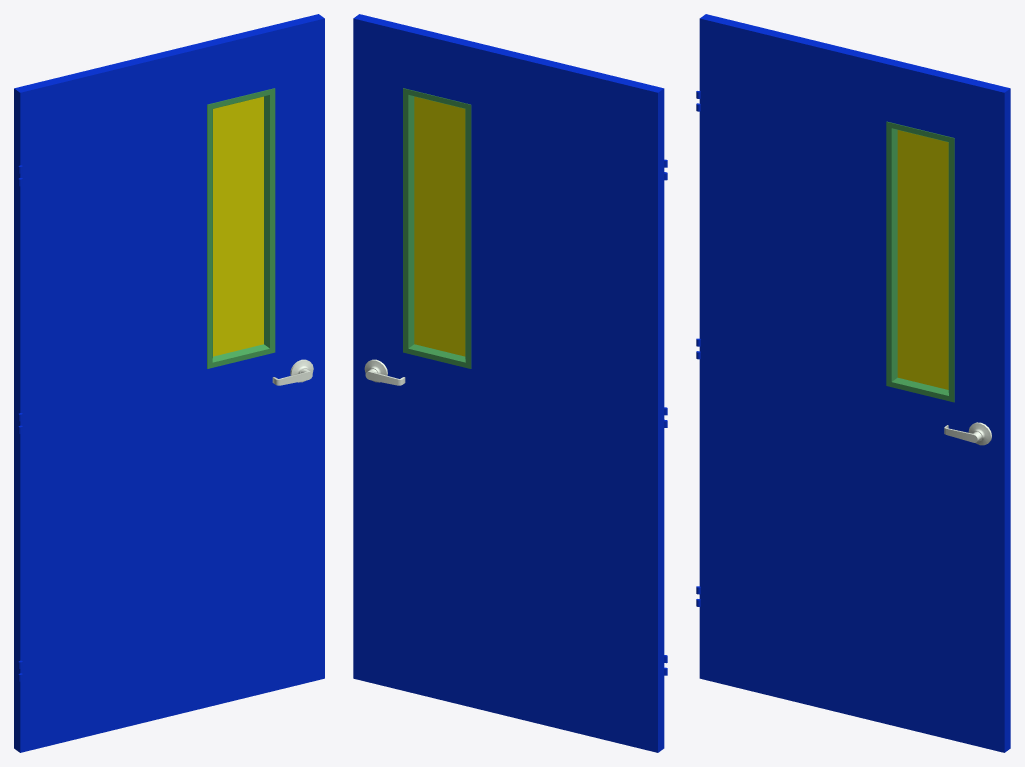
File: puerta_estesi.fbx
3 views of the same model, side by side, from view 1: azimuth 30°, elevation 25°; view 2: azimuth 150°, elevation 25°; view 3: azimuth 330°, elevation 25° (orthographic).
Parts seen in each view (by area): view 1: puerta_aula; view 2: puerta_aula; view 3: puerta_aula.
Boxes of the visible parts, x1,y1,x2,y2 form: puerta_aula: (14,14,324,752); puerta_aula: (353,14,667,752); puerta_aula: (696,14,1010,752).
Size of the model in its own units: 121 by 248 by 14.13.
